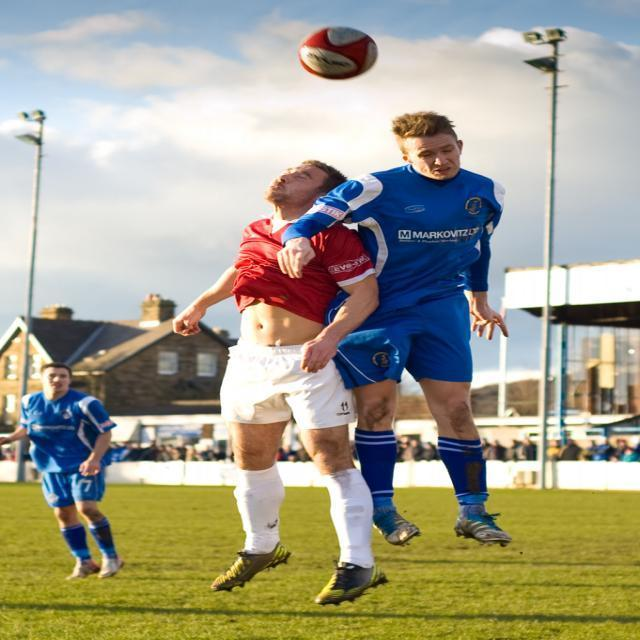football: (289, 0, 383, 93)
